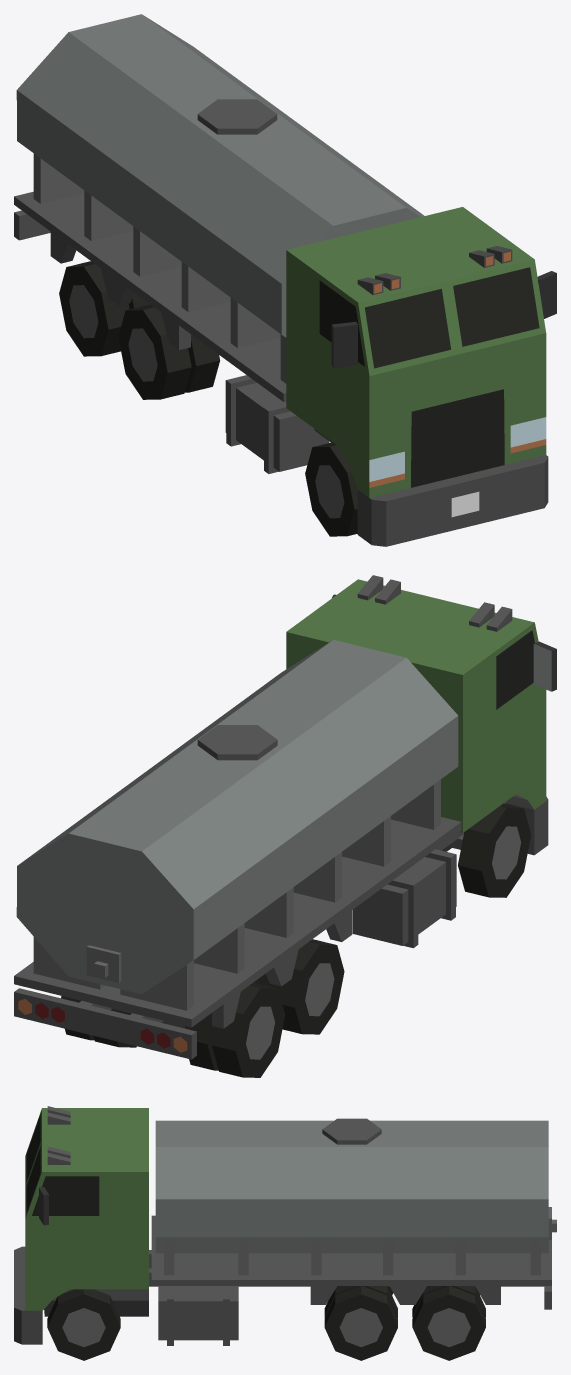
File: Veh_Truck_03_Tank_Green.obj
3 views of the same model, one above another, from view 1: azimuth 30°, elevation 25°; view 2: azimuth 150°, elevation 25°; view 3: azimuth 270°, elevation 25° (orthographic). The views are drawn at different scales.
Size of the model in its own units: 1.68 by 1.94 by 4.78.
